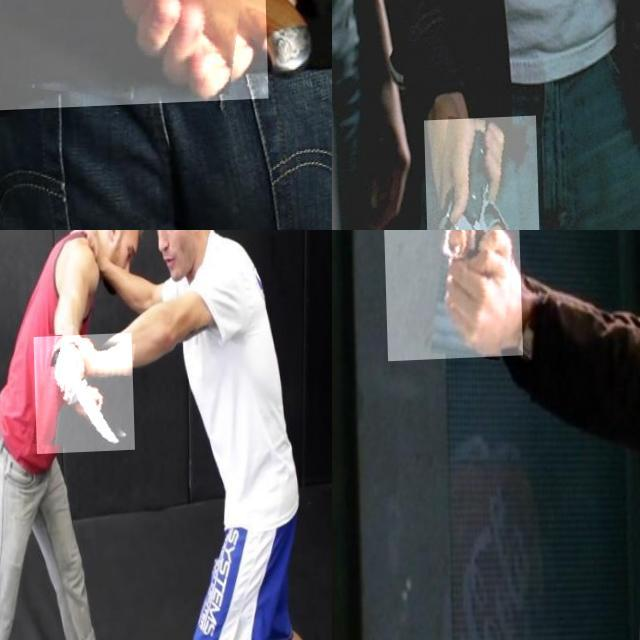-: (0, 0, 265, 188), (32, 336, 133, 456)
gun-knife-thesis - v11 Yolov5 augmented: (381, 230, 521, 362), (422, 120, 539, 230)
